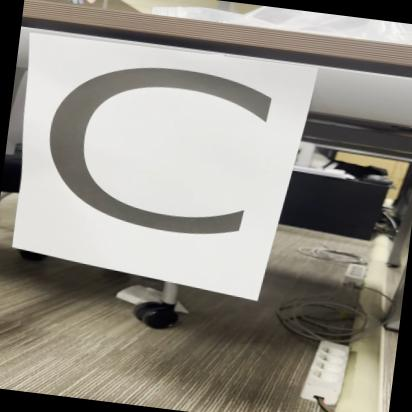seat: (3, 32, 294, 296)
